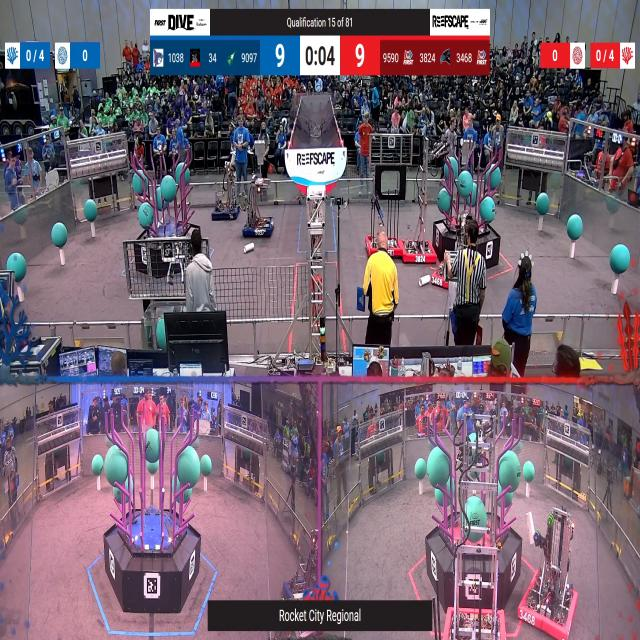scoreboard: (149, 36, 490, 77)
